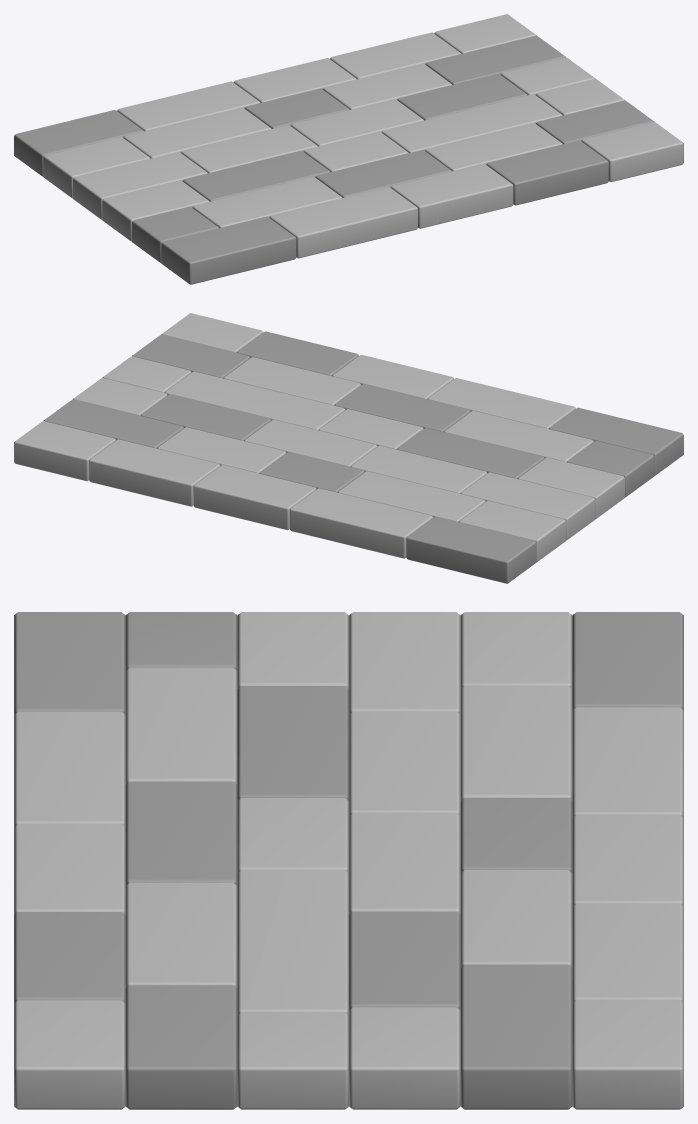
The model's file is City_11_Base_1.glb.
3 views of the same model, one above another, from view 1: azimuth 30°, elevation 25°; view 2: azimuth 150°, elevation 25°; view 3: azimuth 270°, elevation 25° (orthographic). The views are drawn at different scales.
Parts seen in each view (by area): view 1: City_11_Base_1; view 2: City_11_Base_1; view 3: City_11_Base_1.
Boxes of the visible parts, x1=… form: City_11_Base_1: x1=14, y1=14, x2=683, y2=284; City_11_Base_1: x1=14, y1=313, x2=683, y2=583; City_11_Base_1: x1=14, y1=612, x2=683, y2=1109.
Bounding box in the file's own units: 14.12 × 0.6294 × 8.74.
1 material, 1 textured.
